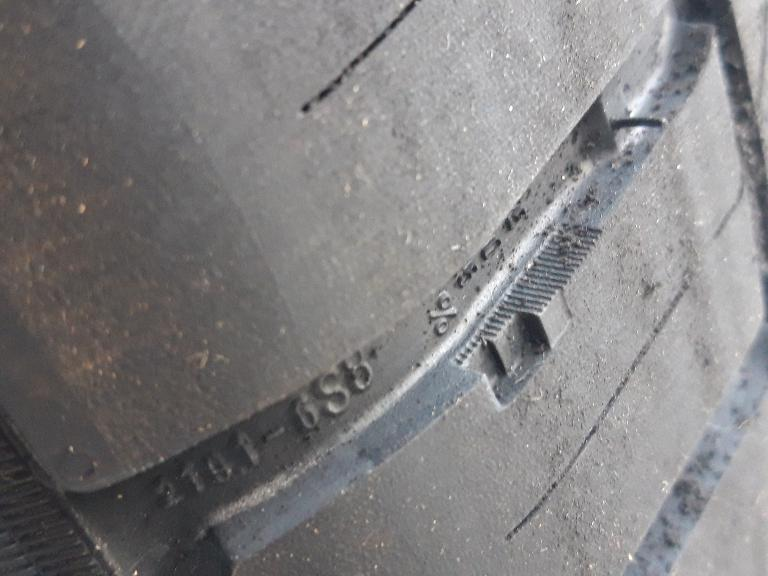temoin:50: (441, 275, 584, 415)
